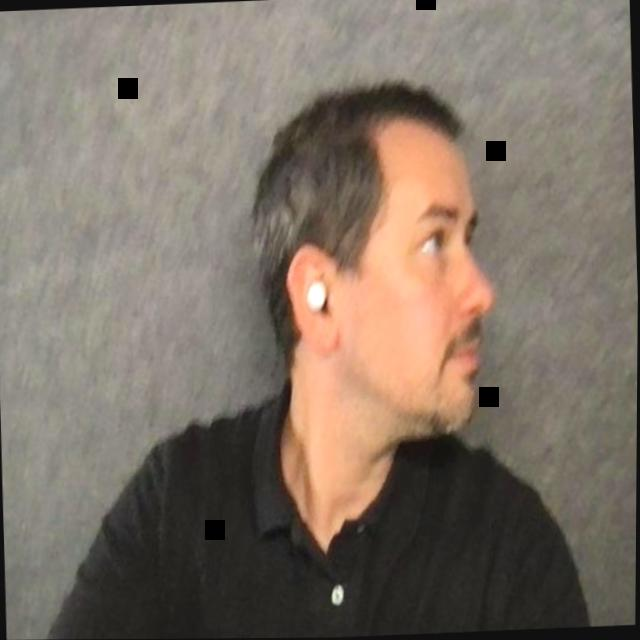NO-Mask: (247, 77, 497, 451)
